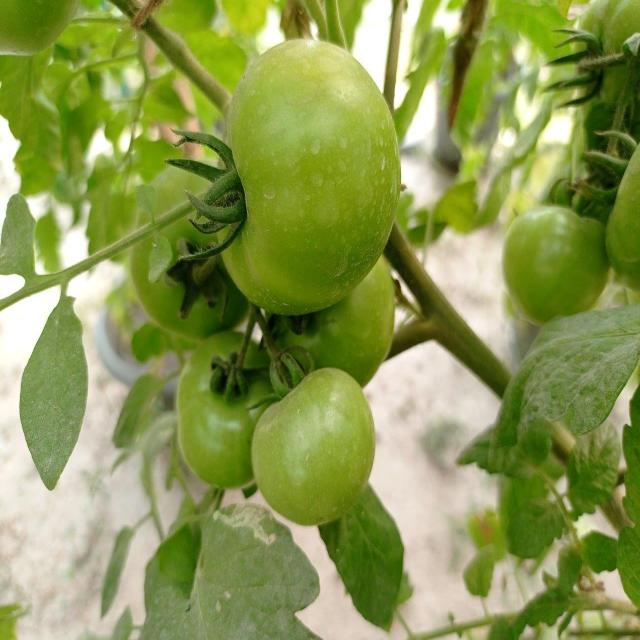Unripe: (210, 36, 402, 315), (252, 362, 375, 524), (177, 331, 280, 487), (502, 201, 610, 324)
